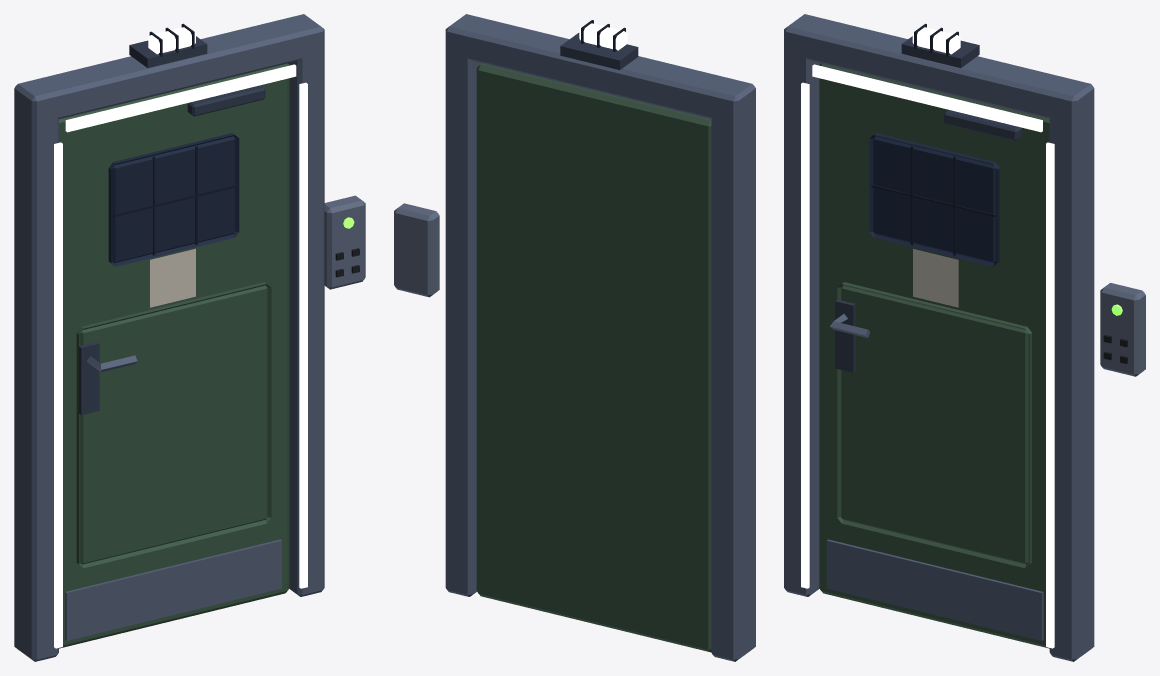
The model's file is city_door.glb.
3 renders of one model, left to right at view 1: azimuth 30°, elevation 25°; view 2: azimuth 150°, elevation 25°; view 3: azimuth 330°, elevation 25°, orthographic.
Visible parts, largest first — view 1: inset_panel, door_leaf, frame, frame.001, window, lamp, lintel, kick_plate, keypad, door_number, handle_plate, door_closer (+1 smaller); view 2: door_leaf, frame, frame.001, lintel, keypad, lamp_bracket, lamp; view 3: inset_panel, door_leaf, frame.001, frame, window, lamp, lintel, kick_plate, keypad, door_number, handle_plate, door_closer (+1 smaller).
Boxes of the visible parts, x1=… form: inset_panel: x1=76, y1=282, x2=271, y2=567; door_leaf: x1=59, y1=63, x2=289, y2=648; frame: x1=14, y1=103, x2=58, y2=661; frame.001: x1=288, y1=51, x2=324, y2=596; window: x1=108, y1=133, x2=239, y2=266; lamp: x1=54, y1=27, x2=307, y2=648; lintel: x1=14, y1=14, x2=324, y2=122; kick_plate: x1=65, y1=539, x2=281, y2=640; keypad: x1=324, y1=195, x2=365, y2=289; door_number: x1=150, y1=248, x2=195, y2=307; handle_plate: x1=78, y1=342, x2=99, y2=415; door_closer: x1=187, y1=85, x2=265, y2=116; door_leaf: x1=476, y1=63, x2=711, y2=652; frame: x1=711, y1=103, x2=755, y2=661; frame.001: x1=445, y1=46, x2=481, y2=596; lintel: x1=445, y1=14, x2=755, y2=122; keypad: x1=394, y1=203, x2=439, y2=297; lamp_bracket: x1=560, y1=33, x2=638, y2=69; lamp: x1=579, y1=23, x2=627, y2=50; inset_panel: x1=837, y1=282, x2=1031, y2=568; door_leaf: x1=819, y1=63, x2=1049, y2=648; frame.001: x1=1049, y1=103, x2=1094, y2=661; frame: x1=784, y1=46, x2=820, y2=596; window: x1=869, y1=133, x2=999, y2=266; lamp: x1=801, y1=27, x2=1054, y2=648; lintel: x1=784, y1=14, x2=1094, y2=122; kick_plate: x1=826, y1=539, x2=1043, y2=640; keypad: x1=1100, y1=282, x2=1145, y2=376; door_number: x1=913, y1=249, x2=958, y2=307; handle_plate: x1=835, y1=299, x2=855, y2=372; door_closer: x1=944, y1=110, x2=1021, y2=140.
Bounding box in the file's own units: 1.5 × 2.47 × 0.238.
